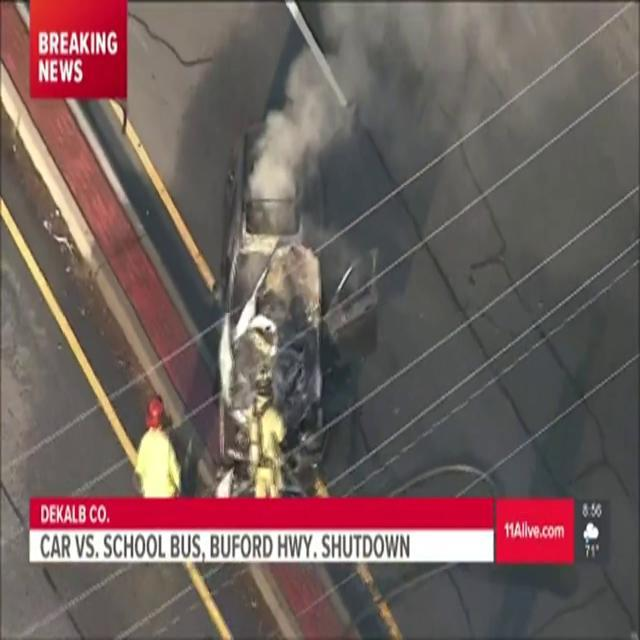Smoke: (258, 2, 565, 210)
